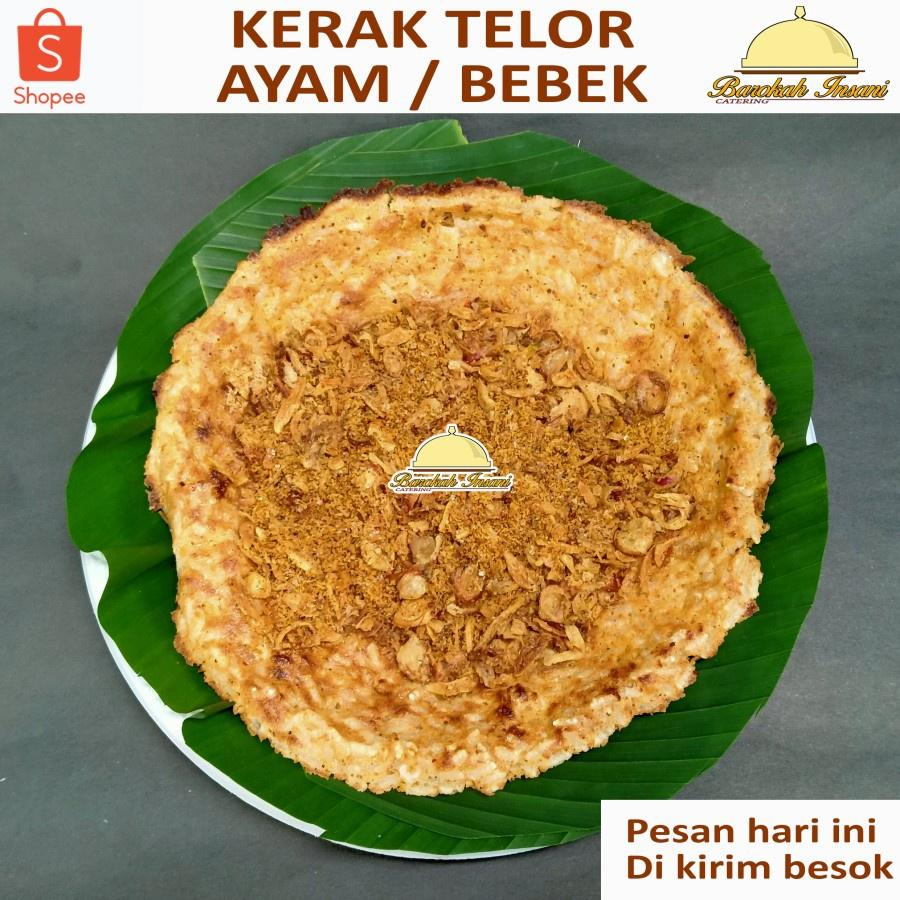kerak_telor: (145, 179, 781, 799)
